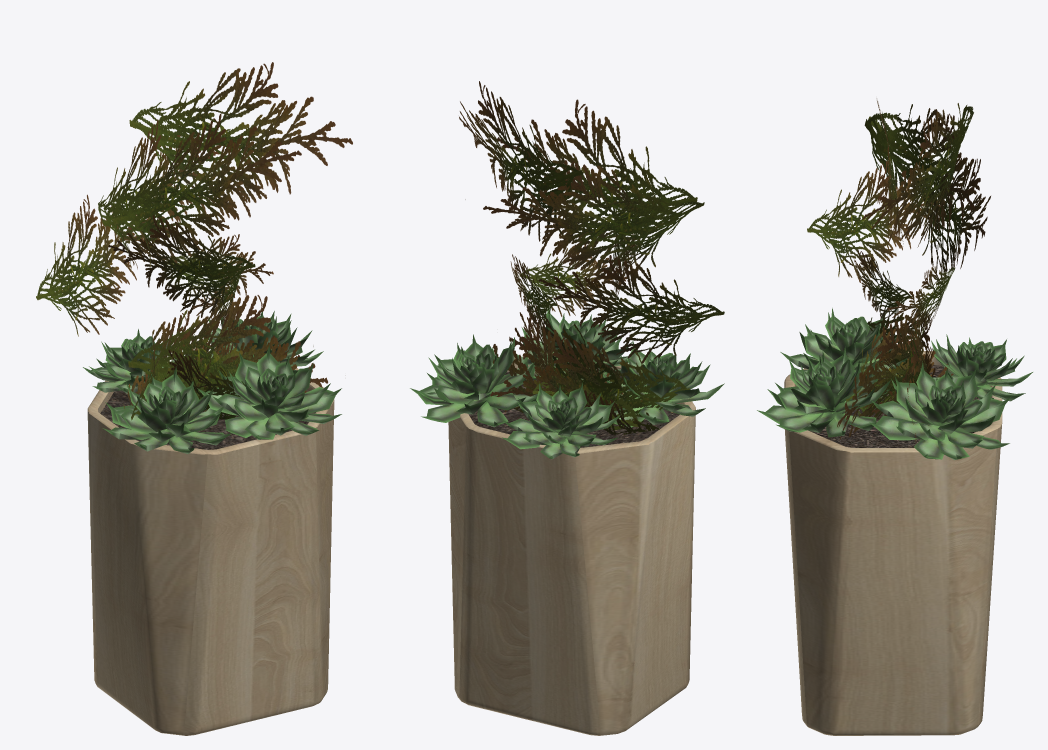
The model's file is Potted Green Prince.glb.
3 renders of one model, left to right at view 1: azimuth 30°, elevation 25°; view 2: azimuth 150°, elevation 25°; view 3: azimuth 270°, elevation 25°, orthographic. The views are drawn at different scales.
Visible parts, largest first — view 1: be2e7ebd-510e-4b60-83ff-faf245ef157e, 2bf349d3-8efb-4095-9d84-12f3cc41ca3a, e3f32362-094c-4c10-b21d-d7860ebd2209, fbe861b9-9b7a-41c6-852c-a13cebc11dbb; view 2: be2e7ebd-510e-4b60-83ff-faf245ef157e, 2bf349d3-8efb-4095-9d84-12f3cc41ca3a, e3f32362-094c-4c10-b21d-d7860ebd2209, fbe861b9-9b7a-41c6-852c-a13cebc11dbb; view 3: be2e7ebd-510e-4b60-83ff-faf245ef157e, 2bf349d3-8efb-4095-9d84-12f3cc41ca3a, e3f32362-094c-4c10-b21d-d7860ebd2209, fbe861b9-9b7a-41c6-852c-a13cebc11dbb.
Boxes of the visible parts, x1,y1,x2,y2 form: be2e7ebd-510e-4b60-83ff-faf245ef157e: [87, 354, 334, 735]; 2bf349d3-8efb-4095-9d84-12f3cc41ca3a: [36, 62, 352, 420]; e3f32362-094c-4c10-b21d-d7860ebd2209: [83, 309, 341, 453]; fbe861b9-9b7a-41c6-852c-a13cebc11dbb: [100, 375, 315, 449]; be2e7ebd-510e-4b60-83ff-faf245ef157e: [448, 356, 695, 735]; 2bf349d3-8efb-4095-9d84-12f3cc41ca3a: [459, 81, 724, 435]; e3f32362-094c-4c10-b21d-d7860ebd2209: [410, 308, 724, 459]; fbe861b9-9b7a-41c6-852c-a13cebc11dbb: [468, 368, 679, 447]; be2e7ebd-510e-4b60-83ff-faf245ef157e: [784, 351, 1002, 735]; 2bf349d3-8efb-4095-9d84-12f3cc41ca3a: [807, 101, 990, 442]; e3f32362-094c-4c10-b21d-d7860ebd2209: [757, 308, 1032, 460]; fbe861b9-9b7a-41c6-852c-a13cebc11dbb: [810, 364, 991, 447].
Size of the model in its own units: 0.3715 by 0.6791 by 0.2569.
Materials: 4 (4 with a texture image).
